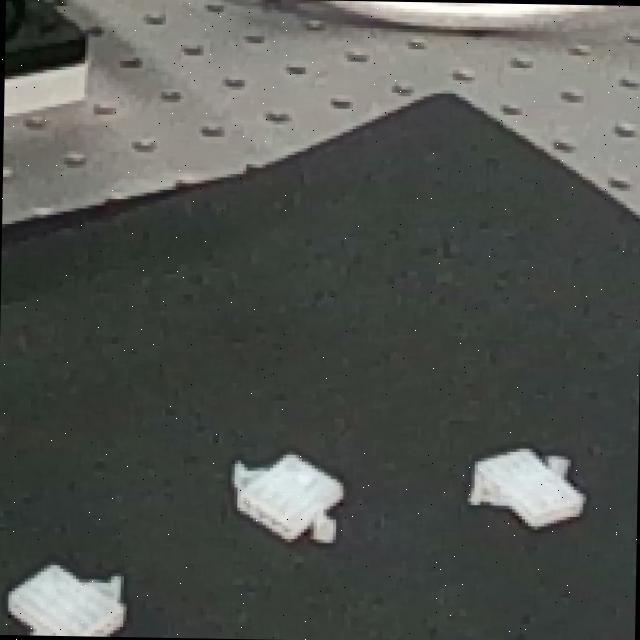pick: (209, 404, 370, 580), (446, 413, 625, 558), (0, 512, 156, 637)
